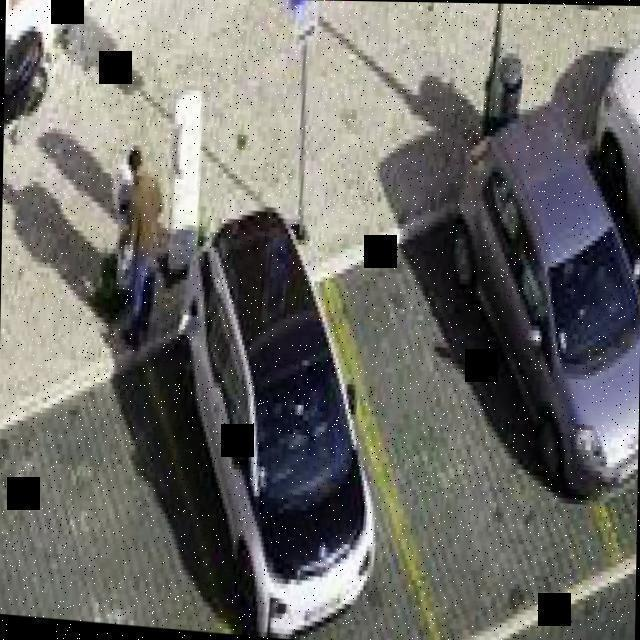space-empty: (0, 340, 243, 628)
space-occupied: (305, 133, 633, 640), (160, 244, 416, 640), (466, 101, 640, 541)
